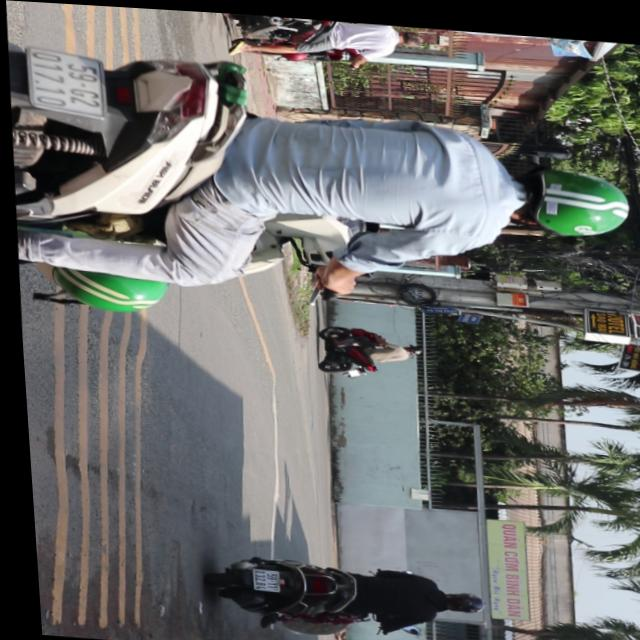helmet: (505, 153, 630, 231), (438, 584, 478, 608)
licenseplate: (2, 33, 634, 349), (199, 543, 482, 640), (222, 10, 433, 65)
motorcyclist: (398, 22, 429, 42)
nohelmet: (31, 46, 106, 113), (246, 565, 274, 587)
